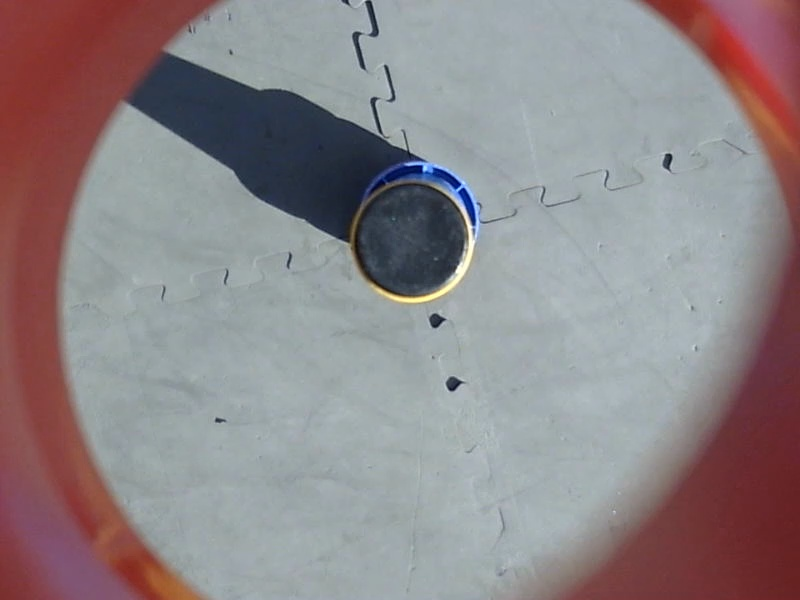tip: (346, 177, 478, 306)
